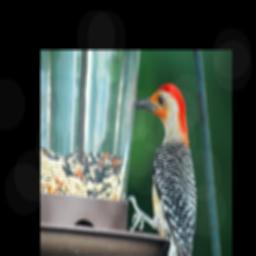Woodpecker: (127, 83, 200, 256)
